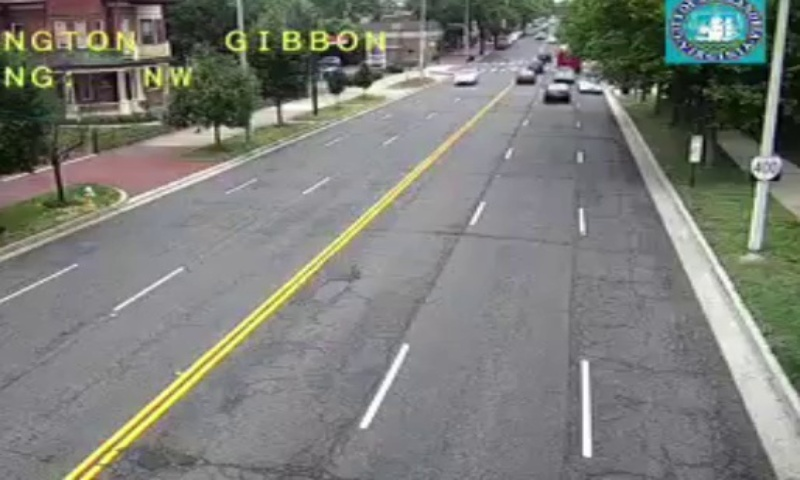car: (544, 82, 571, 102)
